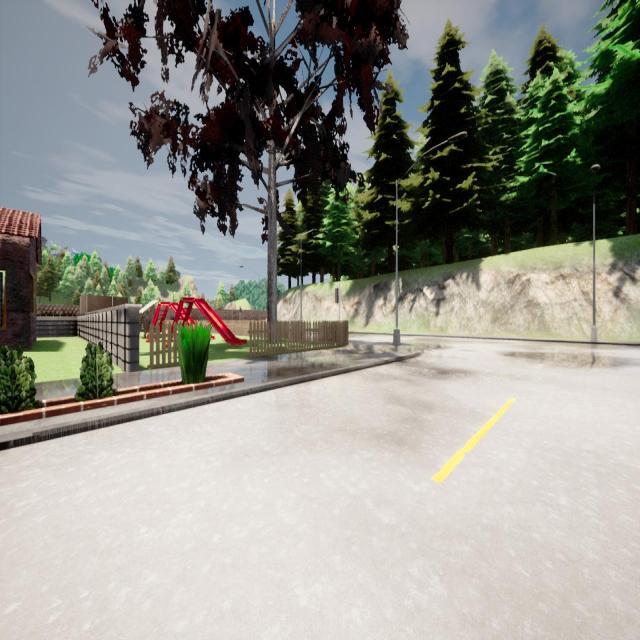traffic_light: (335, 288, 339, 303), (240, 306, 242, 312)
